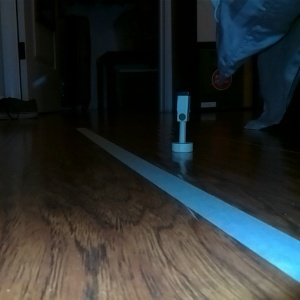traffic light green: (169, 88, 195, 155)
